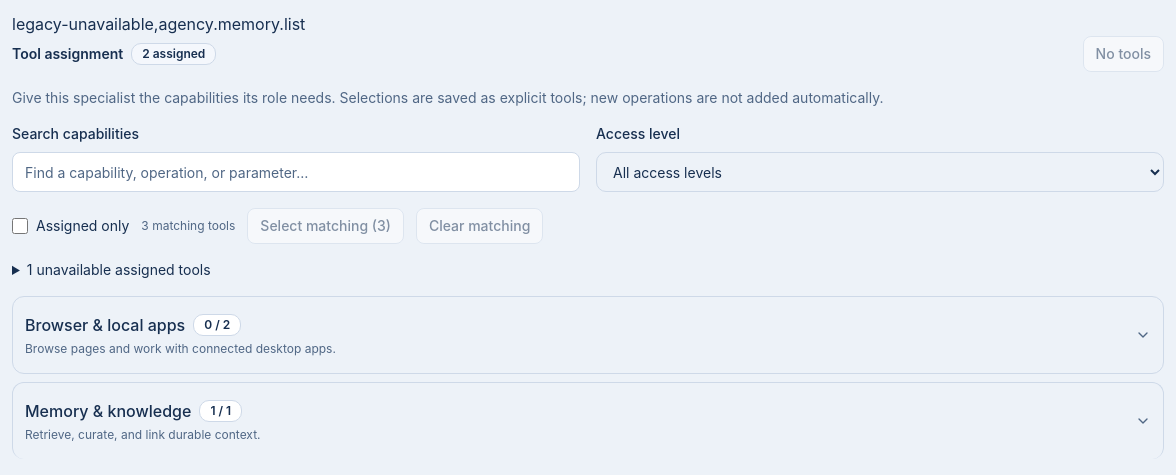
it: specialist capability selection › shows assigned tools only and prevents changes while saving
Click the checkbox labelled "Assigned only" at point(20, 226), box [12,218,28,234]
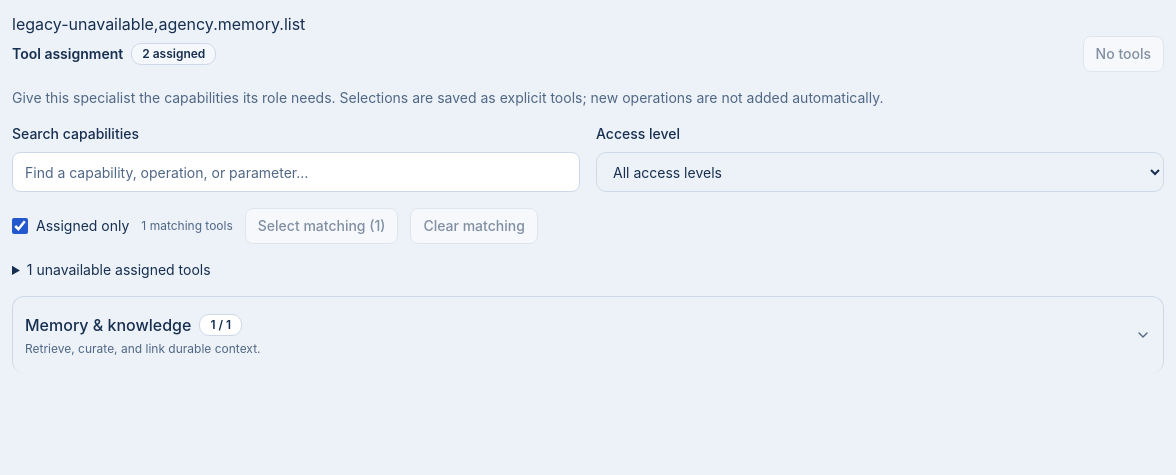
Check: the button "Clear matching" is disabled, box [410,208,538,244]
Check: the text "1 matching tools" is shown, box [141,218,233,234]
